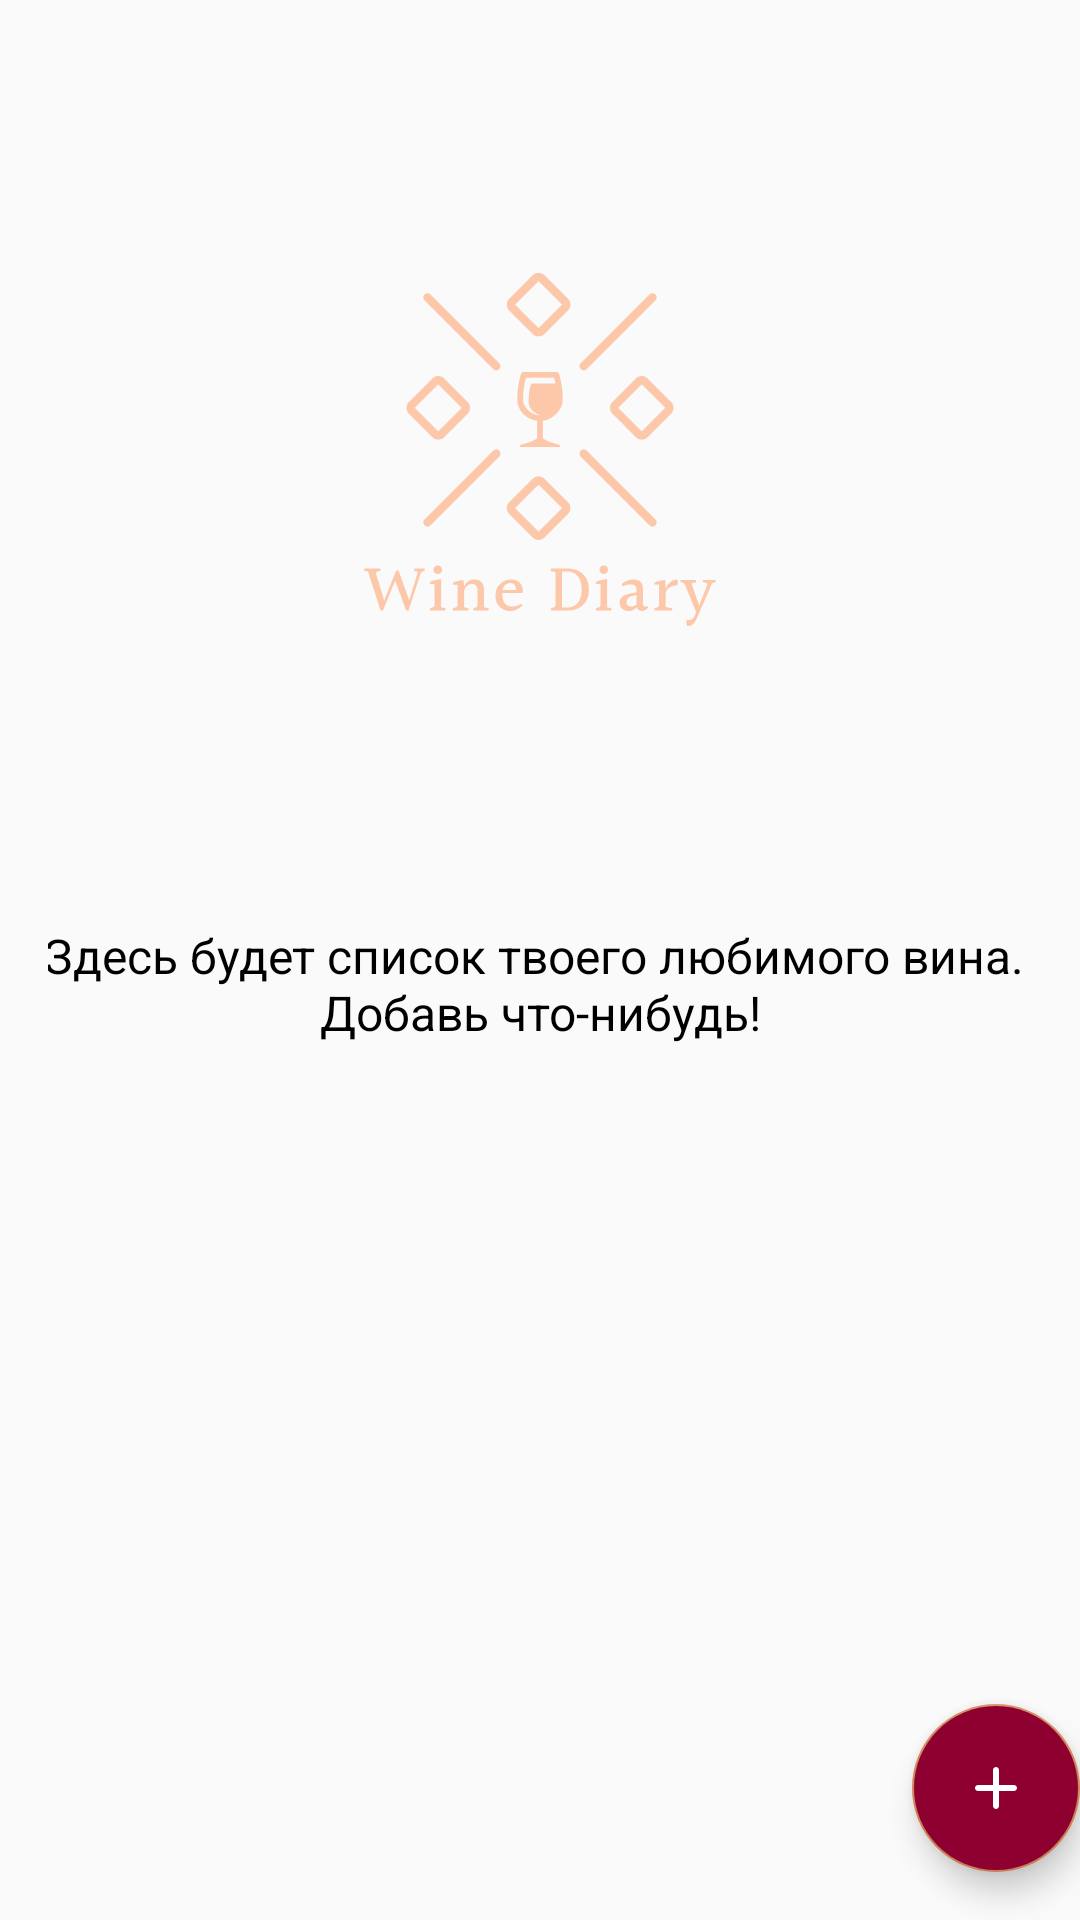

Icon bounding boxes for this 1080px x 1920px phone screenshot, format BBox(x1, y1, x2, y2):
plus: BBox(912, 1704, 1080, 1872)
